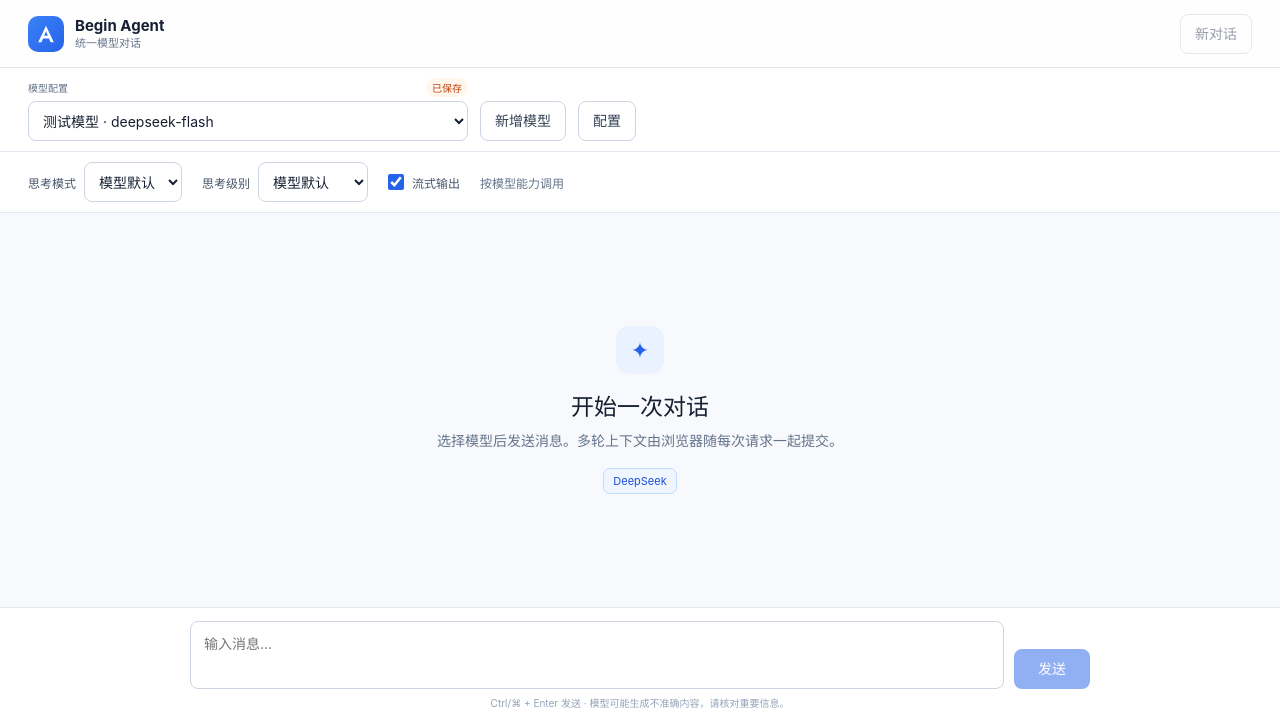
it: page interaction states › retains partial output and visibly marks error
Type "error" into the text box with placeholder "输入消息…".
click(597, 655); type("error")  # box [190,621,1004,689]
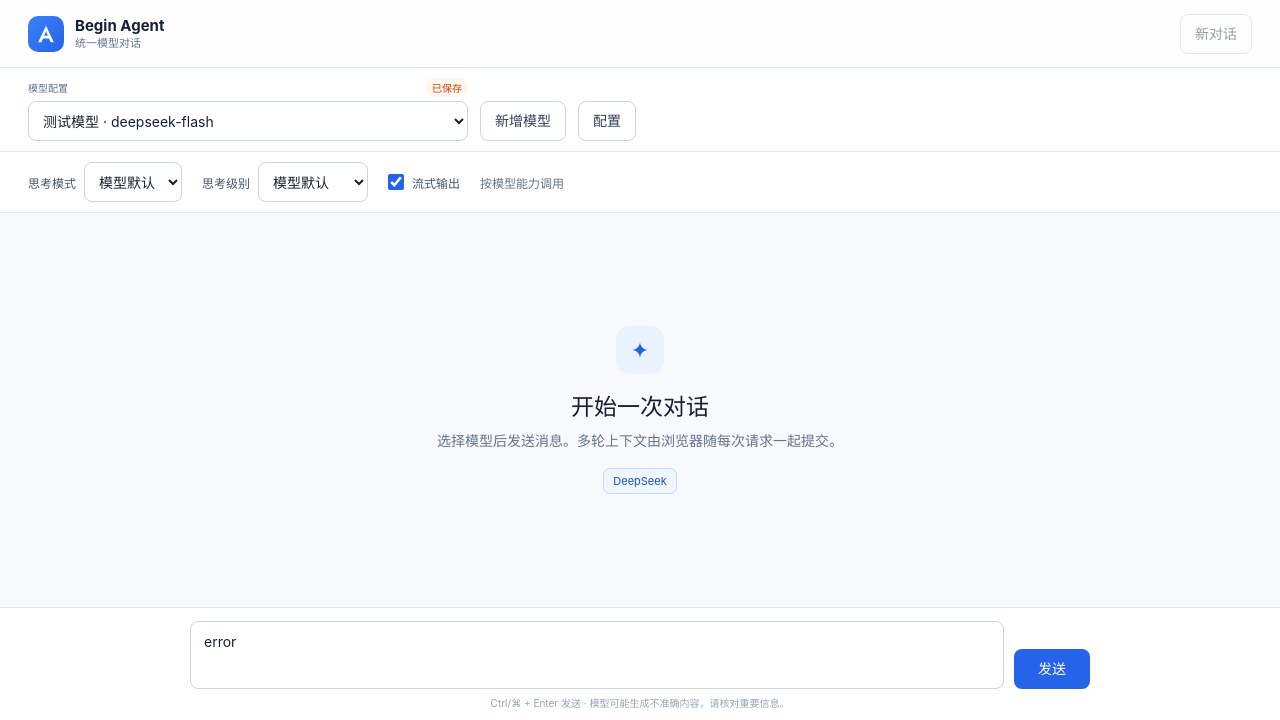
Click the button "发送".
click(1052, 669)  # box [1014,649,1090,689]
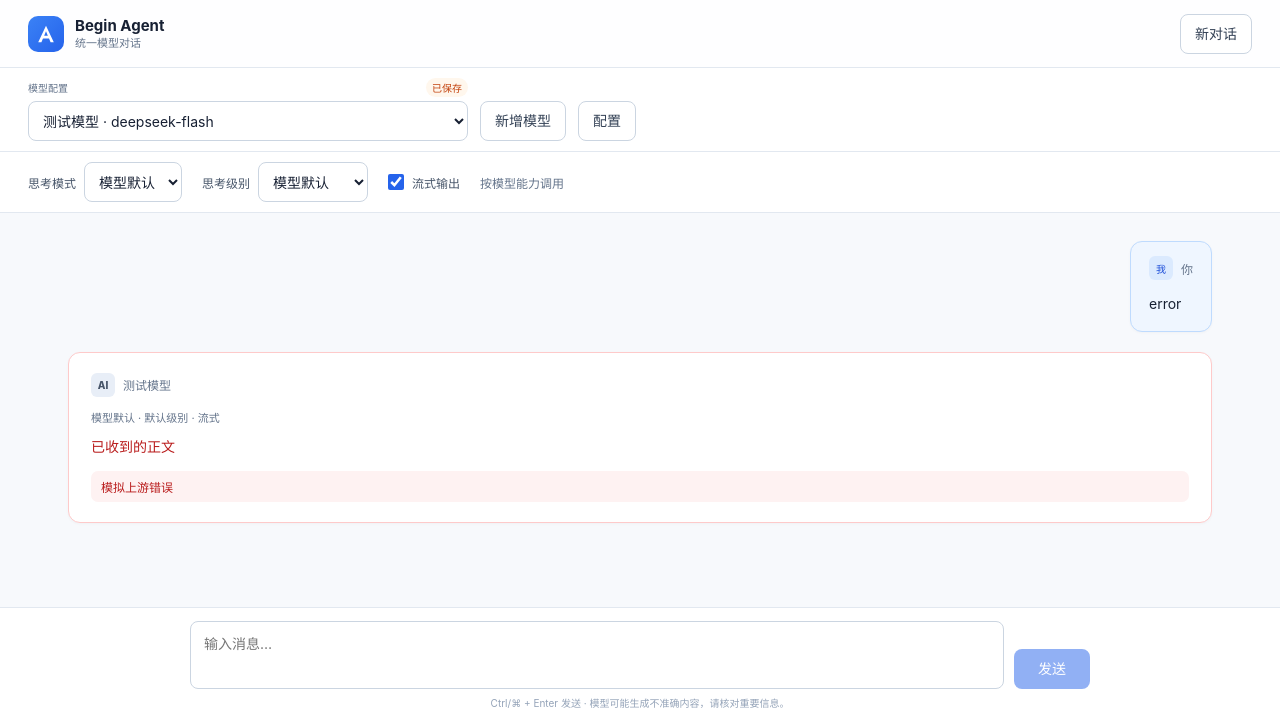
Check: the element with class "assistant" shows "已收到的正文", box [91,438,175,454]
Check: the text "模拟上游错误" is shown, box [91,471,1189,502]
